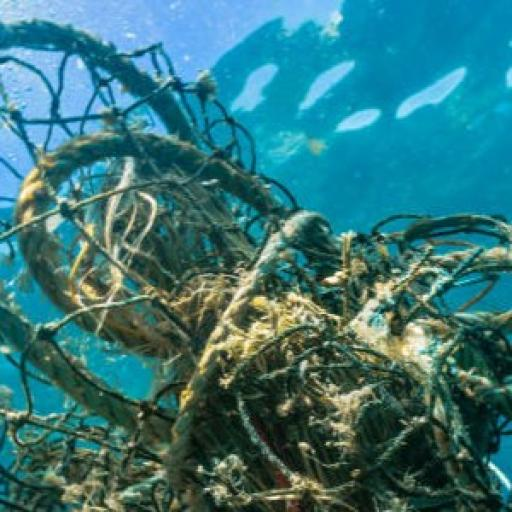net: (0, 20, 512, 504)
